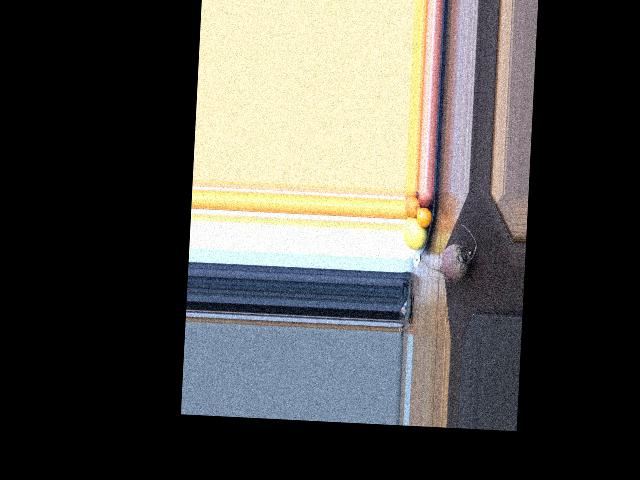beet: (423, 222, 477, 283)
